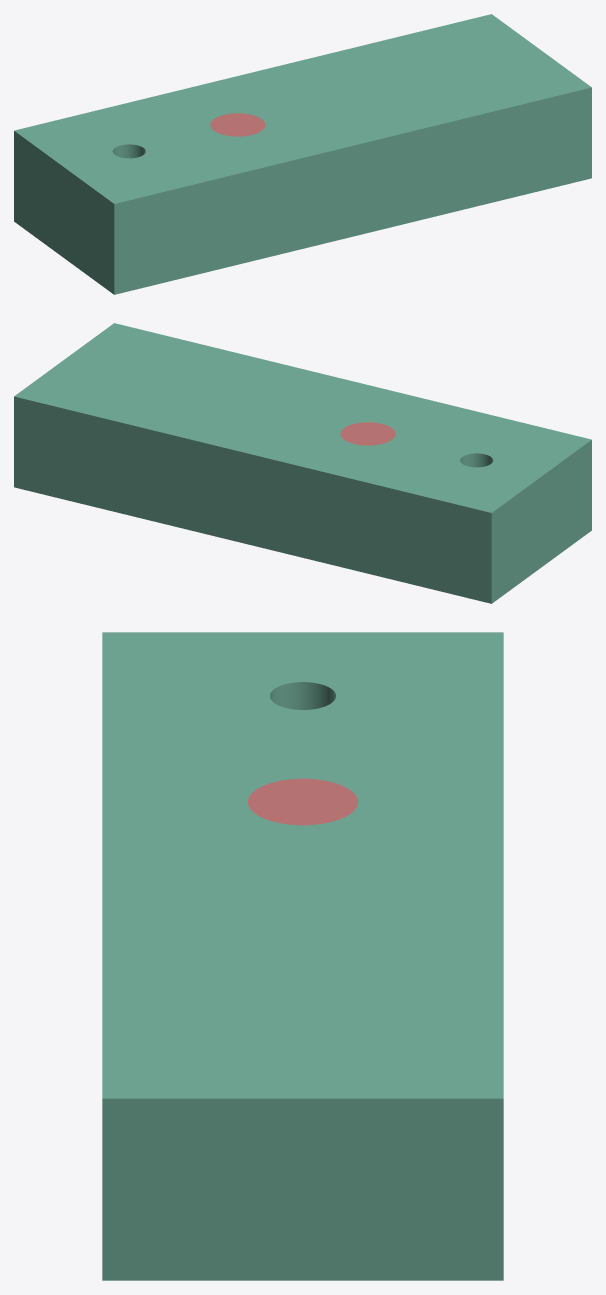
Rendered from step_04.glb.
3 views of the same model, one above another, from view 1: azimuth 30°, elevation 25°; view 2: azimuth 150°, elevation 25°; view 3: azimuth 270°, elevation 25° (orthographic). The views are drawn at different scales.
Parts seen in each view (by area): view 1: part__hole features block, removed__hole features block; view 2: part__hole features block, removed__hole features block; view 3: part__hole features block, removed__hole features block.
Boxes of the visible parts, bbox=[...] form: part__hole features block: bbox=[14, 14, 591, 294]; removed__hole features block: bbox=[210, 113, 265, 136]; part__hole features block: bbox=[14, 323, 591, 603]; removed__hole features block: bbox=[340, 422, 395, 445]; part__hole features block: bbox=[102, 632, 503, 1280]; removed__hole features block: bbox=[248, 778, 357, 825].
Bounding box in the file's own units: 110 × 20 × 40.
